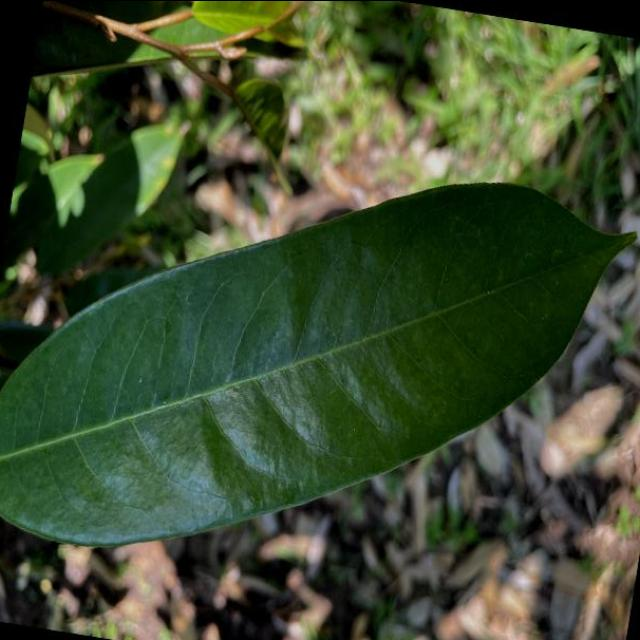No Disease: (0, 96, 640, 634)
